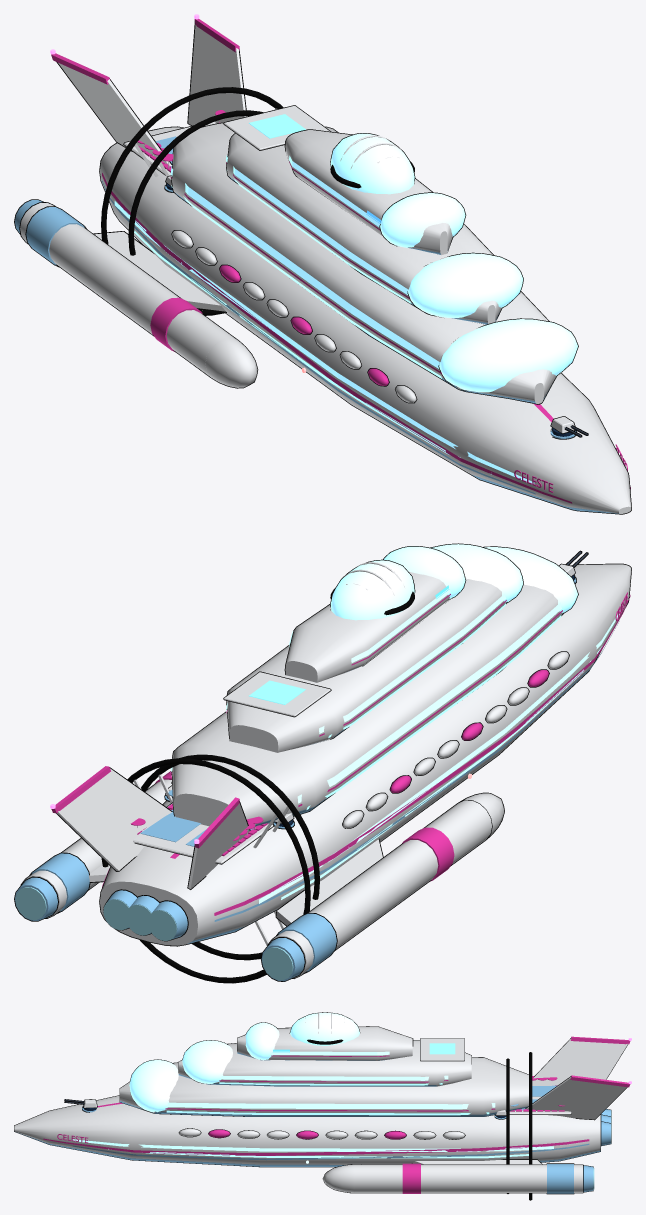
The model's file is Cruiser_Liner.fbx.
3 renders of one model, top to bottom at view 1: azimuth 30°, elevation 25°; view 2: azimuth 150°, elevation 25°; view 3: azimuth 270°, elevation 25°, orthographic. The views are drawn at different scales.
Visible parts, largest first — view 1: Hull, Tier1, Tier2, Nacelle-1_Body, Tier1_Lounge, Tier2_Lounge, Tier3, FinV1, Atrium_Glass, Tier3_Lounge, FinV-1, Nacelle-1_Pylon (+14 smaller); view 2: Hull, Tier1, Tier2, Nacelle-1_Body, Tier3, FinV1, Atrium_Glass, Halo0, Tier2_Lounge, Tier1_Lounge, Nacelle-1_Pylon, Tier1_Winside- (+28 smaller); view 3: Hull, Tier1, Tier2, Nacelle1_Body, Tier3, FinV-1, FinV1, Tier1_Lounge, Atrium_Glass, Tier2_Lounge, Tier1_Winside+, Mk_Swooshside+ (+21 smaller).
Boxes of the visible parts, x1,y1,x2,y2 form: Hull: [99, 126, 631, 514]; Tier1: [171, 122, 557, 404]; Tier2: [226, 126, 502, 324]; Nacelle-1_Body: [19, 202, 238, 377]; Tier1_Lounge: [438, 318, 578, 392]; Tier2_Lounge: [407, 252, 523, 318]; Tier3: [284, 129, 453, 254]; FinV1: [187, 21, 247, 125]; Atrium_Glass: [330, 133, 415, 194]; Tier3_Lounge: [379, 192, 466, 247]; FinV-1: [56, 62, 172, 165]; Nacelle-1_Pylon: [93, 231, 226, 312]; Hull: [99, 563, 631, 946]; Tier1: [171, 584, 563, 826]; Tier2: [226, 578, 507, 752]; Nacelle-1_Body: [267, 799, 492, 978]; Tier3: [284, 572, 452, 682]; FinV1: [51, 767, 172, 871]; Atrium_Glass: [330, 559, 415, 620]; Halo0: [101, 758, 310, 983]; Tier2_Lounge: [430, 543, 523, 603]; Tier1_Lounge: [483, 546, 578, 614]; Nacelle-1_Pylon: [275, 838, 383, 926]; Tier1_Winside-: [297, 602, 561, 803]; Hull: [14, 1095, 600, 1167]; Tier1: [119, 1057, 528, 1116]; Tier2: [178, 1040, 471, 1086]; Nacelle1_Body: [355, 1164, 583, 1193]; Tier3: [237, 1026, 413, 1060]; FinV-1: [532, 1038, 627, 1085]; FinV1: [525, 1076, 627, 1120]; Tier1_Lounge: [129, 1059, 178, 1112]; Atrium_Glass: [289, 1012, 360, 1045]; Tier2_Lounge: [182, 1040, 232, 1084]; Tier1_Winside+: [167, 1102, 495, 1109]; Mk_Swooshside+: [43, 1138, 589, 1155].
Bounding box in the file's own units: 63.94 × 61.47 × 192.
